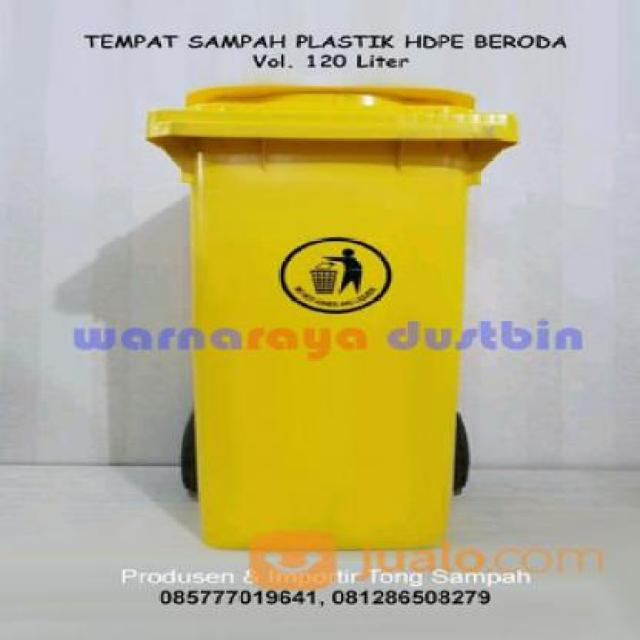garbage container: (128, 70, 540, 547)
